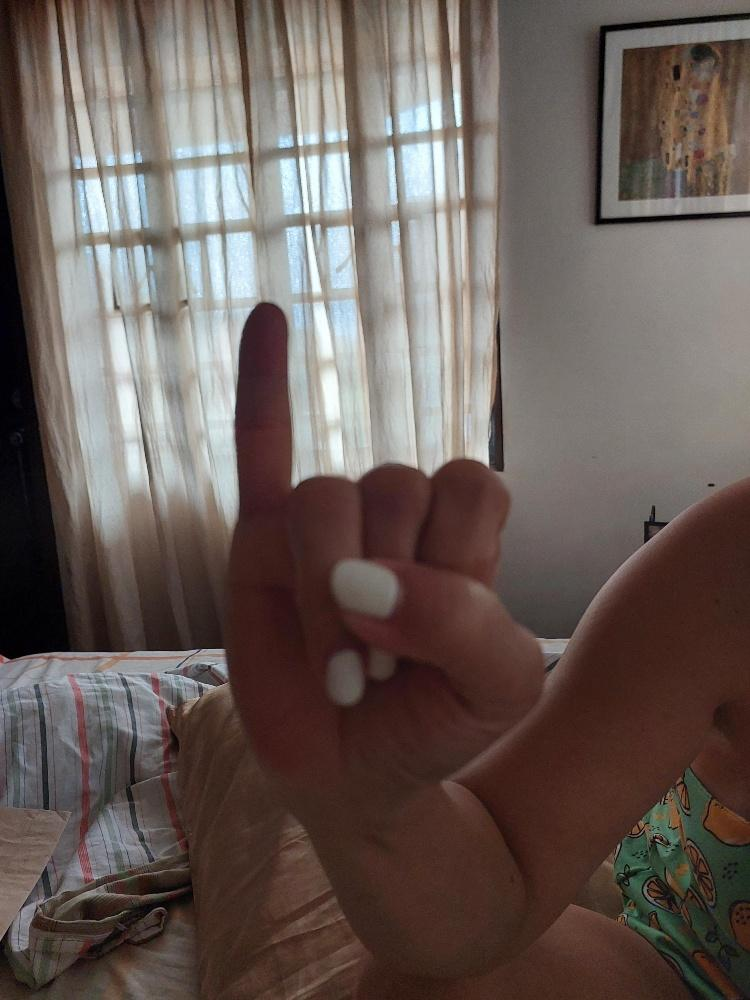i: (218, 295, 548, 801)
